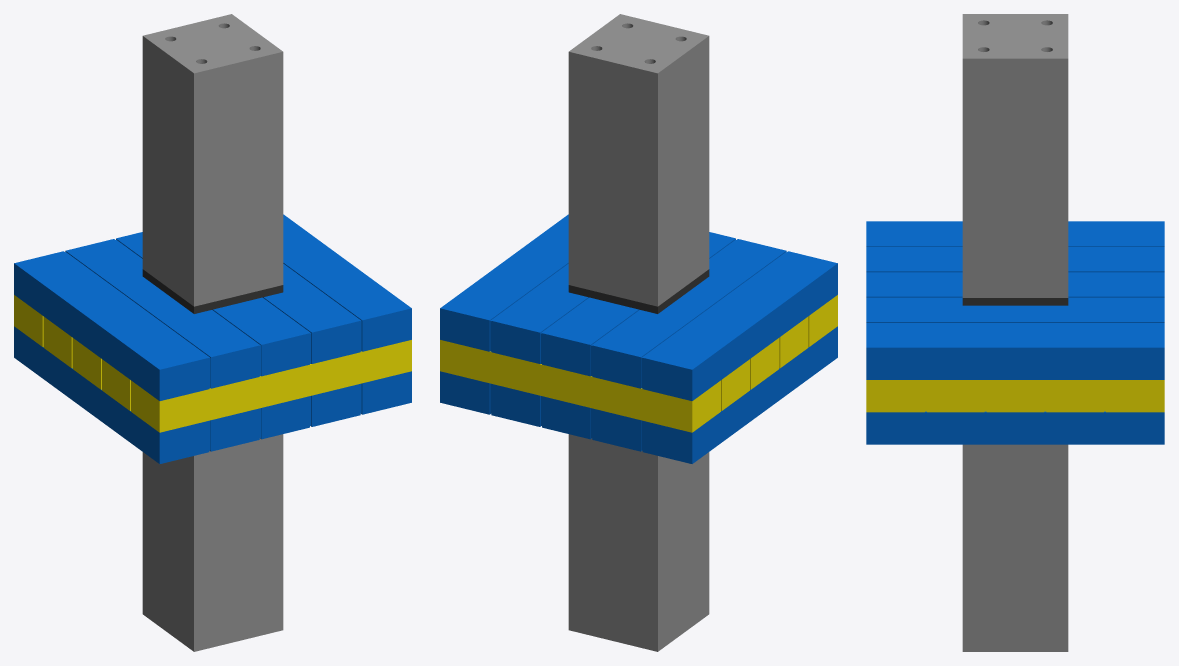
The model's file is Houman.glb.
3 views of the same model, side by side, from view 1: azimuth 30°, elevation 25°; view 2: azimuth 150°, elevation 25°; view 3: azimuth 270°, elevation 25° (orthographic). The views are drawn at different scales.
Visible parts, largest first — view 1: _2x_Stub__grey____2_, Top, _2x_Stub__grey__, Body1, Bottom, Top__black_; view 2: _2x_Stub__grey____2_, Top, _2x_Stub__grey__, Body1, Bottom, Top__black_; view 3: Top, _2x_Stub__grey____2_, _2x_Stub__grey__, Bottom, Body1, Top__black_.
Part boxes in pixels (left/top/right/bottom): _2x_Stub__grey____2_: left=142, top=14, right=283, bottom=306; Top: left=14, top=214, right=411, bottom=400; _2x_Stub__grey__: left=142, top=434, right=283, bottom=651; Body1: left=14, top=295, right=411, bottom=432; Bottom: left=14, top=326, right=411, bottom=463; Top__black_: left=142, top=269, right=283, bottom=313; _2x_Stub__grey____2_: left=568, top=14, right=709, bottom=306; Top: left=440, top=214, right=837, bottom=400; _2x_Stub__grey__: left=568, top=434, right=709, bottom=651; Body1: left=440, top=295, right=837, bottom=432; Bottom: left=440, top=326, right=837, bottom=463; Top__black_: left=568, top=269, right=709, bottom=313; Top: left=866, top=221, right=1164, bottom=379; _2x_Stub__grey____2_: left=962, top=14, right=1068, bottom=297; _2x_Stub__grey__: left=962, top=444, right=1068, bottom=651; Bottom: left=866, top=411, right=1164, bottom=444; Body1: left=866, top=380, right=1164, bottom=412; Top__black_: left=962, top=298, right=1068, bottom=305.
Size of the model in its own units: 140 by 307 by 140.
